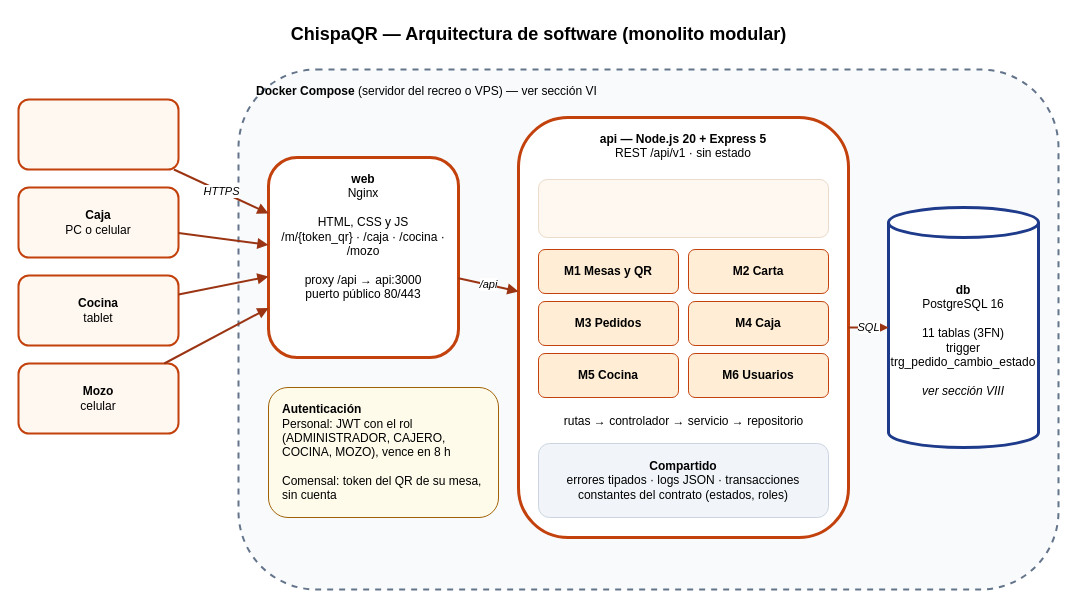
Some shapes in this 1076 by 607 pixel diagram are drawn without their labels. The shapes that lost their labels are listed below. From the top down, each one's centre as x and y in pixels, then its label:
At pixel 98 134: "Comensal celular · escanea el QR".
At pixel 683 208: "Middlewares autenticar (JWT / token QR) · autorizar (rol) · validar".
